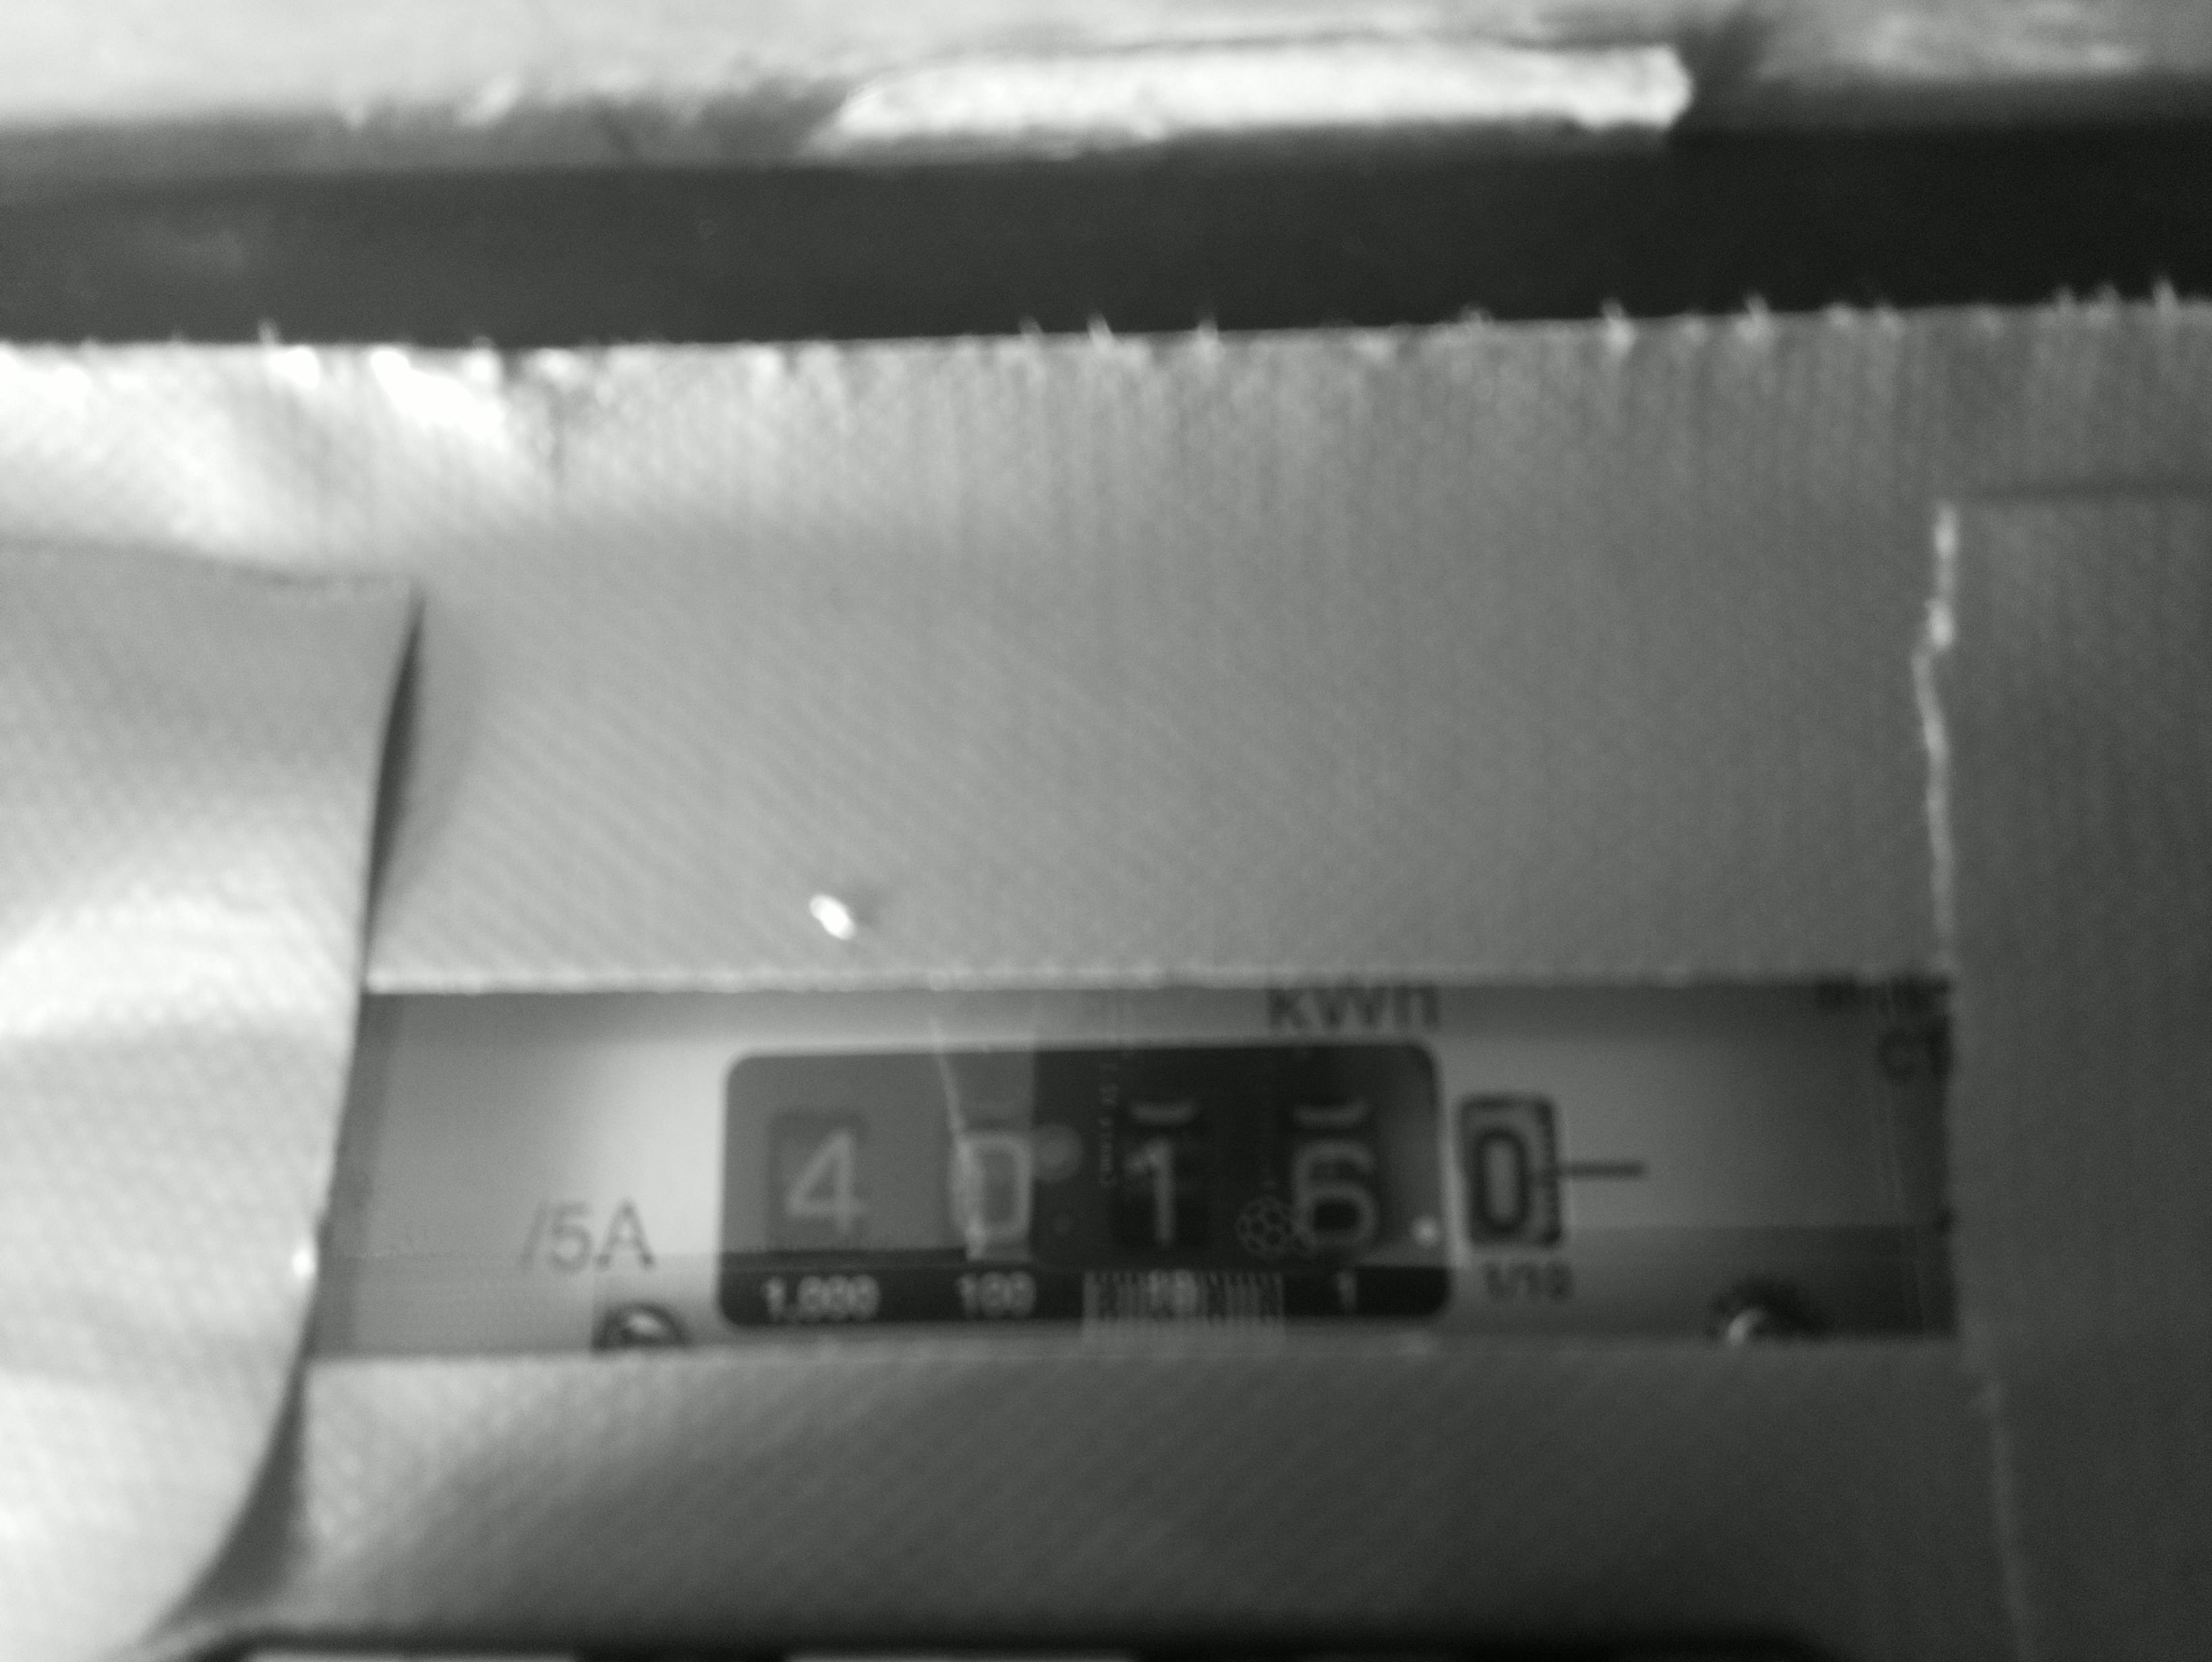meter_box: (695, 1021, 1613, 1344)
